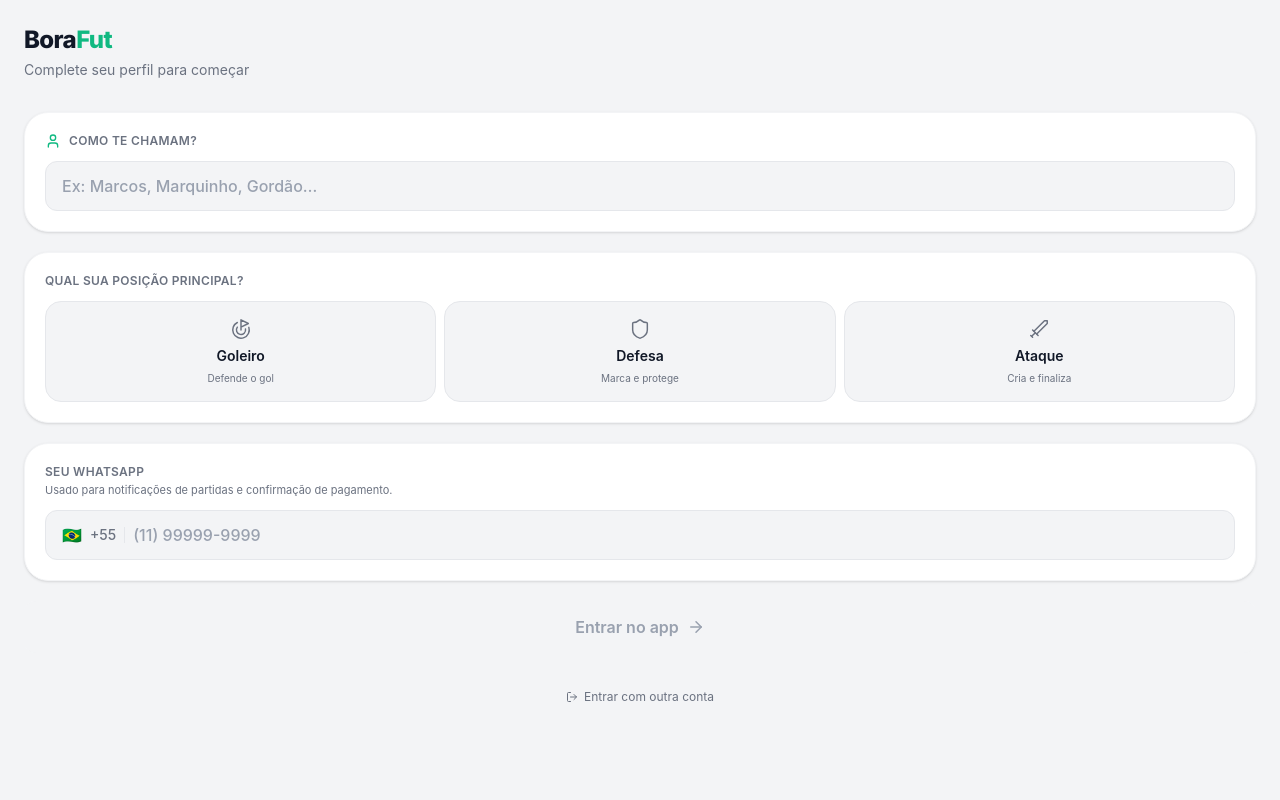
Scenario: Onboarding Component › validates minimum name length
This screenshot has width=1280, height=800.
Type "A" into the field with placeholder "Ex: Marcos, Marquinho, Gordão…" at (640, 186), box [45,161,1235,211]
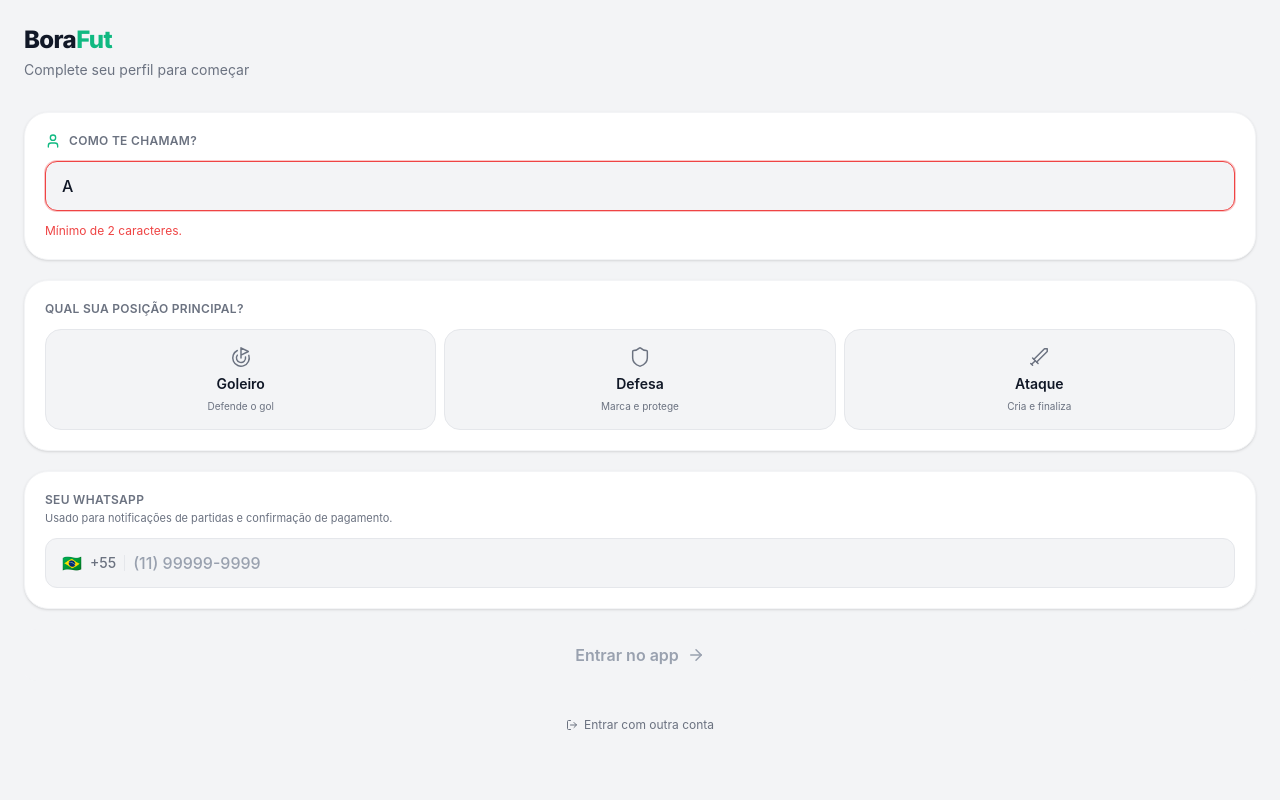
Check: the button "Entrar no app" is disabled, box [24,629,1256,681]
Check: the text "Mínimo de 2 caracteres." is shown, box [45,223,182,238]
Type "B" into the field with placeholder "Ex: Marcos, Marquinho, Gordão…" at (640, 186), box [45,161,1235,211]
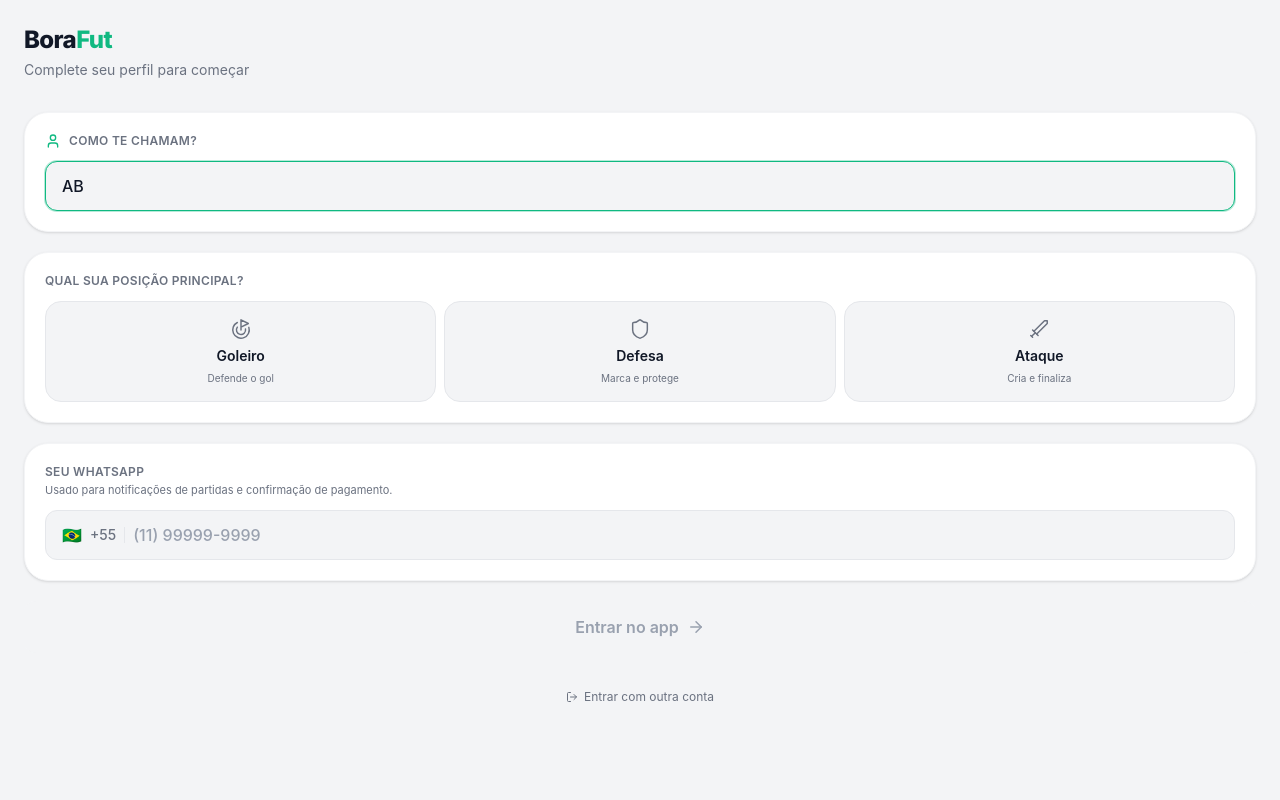
Check: the text "Mínimo de 2 caracteres." is gone
